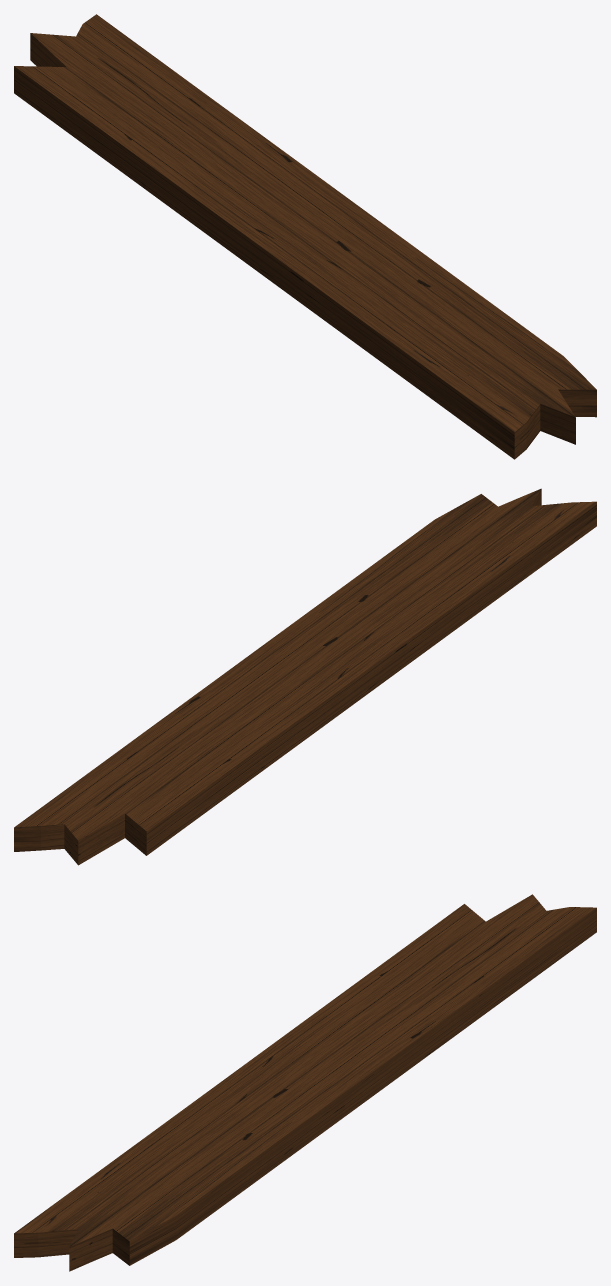
The model's file is WoodenPlank1.fbx.
The picture shows the model from 3 angles, top to bottom: view 1: azimuth 30°, elevation 25°; view 2: azimuth 150°, elevation 25°; view 3: azimuth 330°, elevation 25°; orthographic projection. The views are drawn at different scales.
Visible parts, largest first — view 1: pCube1; view 2: pCube1; view 3: pCube1.
Boxes of the visible parts, left/top/right/bottom form: pCube1: left=14, top=14, right=596, bottom=459; pCube1: left=14, top=488, right=596, bottom=865; pCube1: left=14, top=894, right=596, bottom=1271.
Bounding box in the file's own units: 1 × 0.2406 × 8.03.
1 material, 1 textured.
